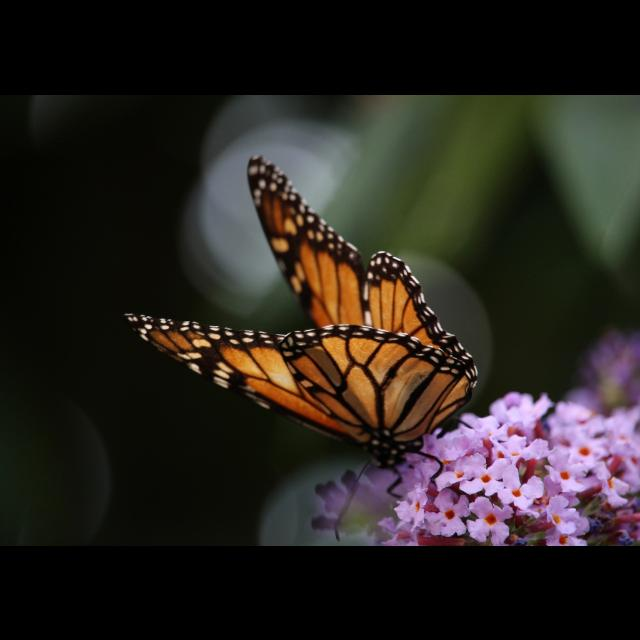Flower: (312, 388, 640, 544), (556, 324, 640, 412)
